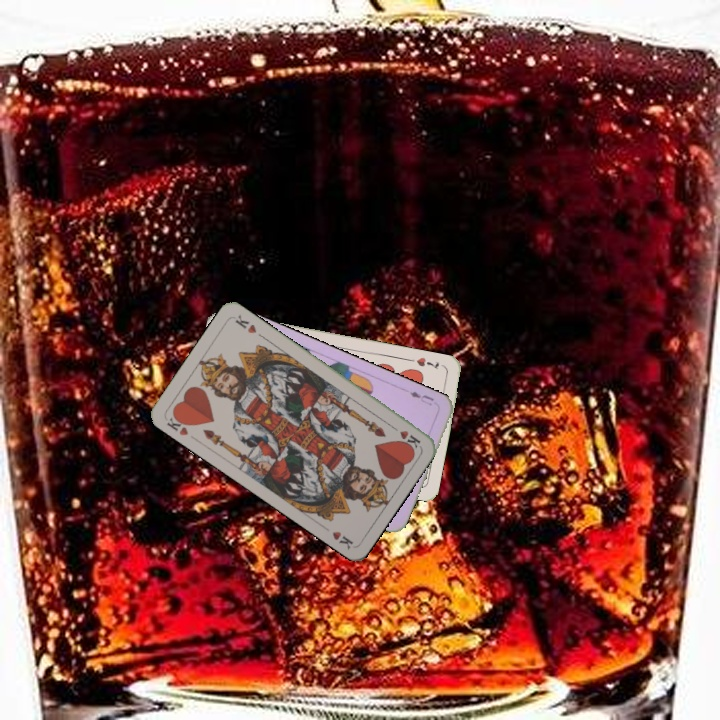EU: (406, 387, 436, 408)
H7: (412, 353, 442, 372)
HK: (387, 421, 423, 451), (163, 409, 193, 438)
